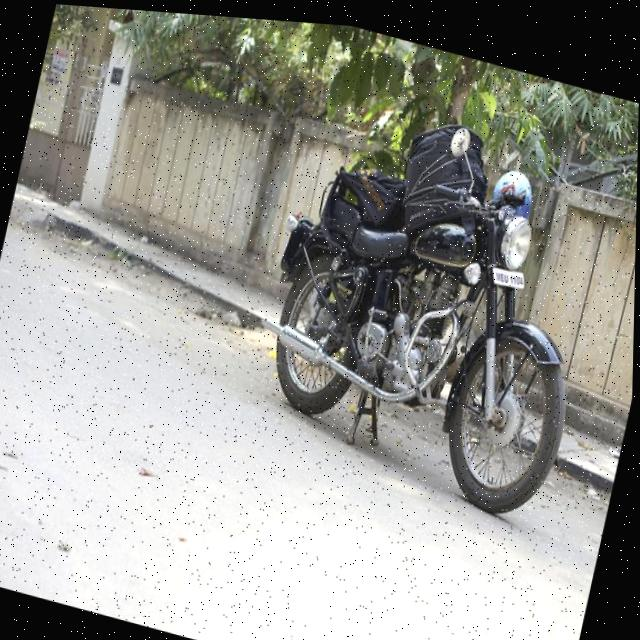motorcycle: (230, 68, 628, 540)
plate: (481, 254, 533, 297)
